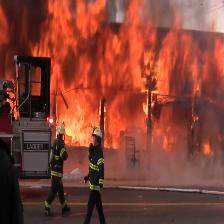fire: (53, 0, 224, 190)
